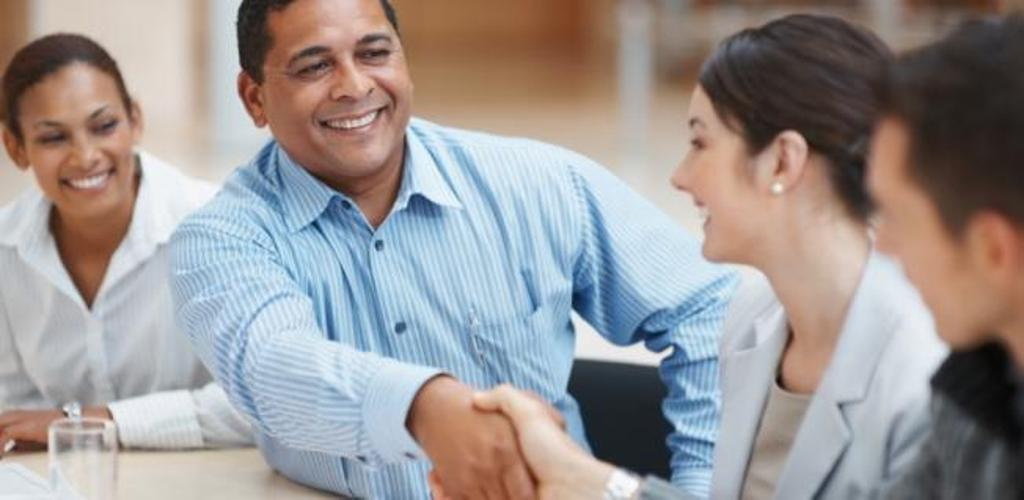face: (862, 114, 992, 352), (260, 6, 414, 178), (22, 62, 134, 212), (670, 64, 750, 262)
